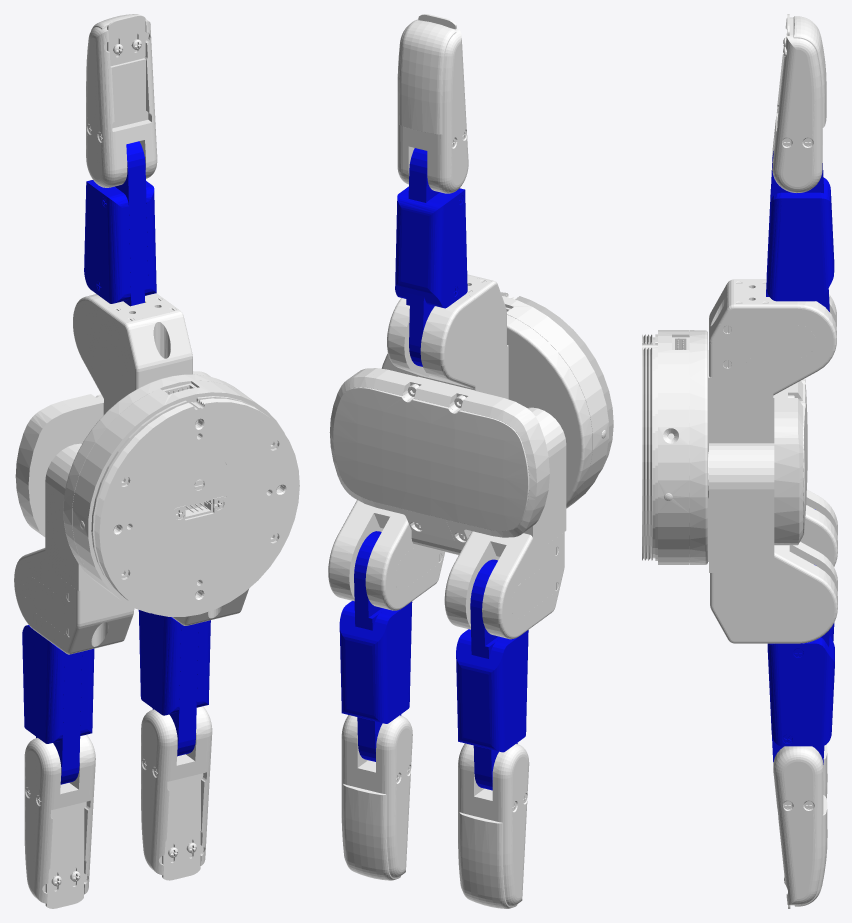
File: BarreHand_v4c.fbx
The picture shows the model from 3 angles, left to right: view 1: azimuth 30°, elevation 25°; view 2: azimuth 150°, elevation 25°; view 3: azimuth 270°, elevation 25°; orthographic projection.
Parts seen in each view (by area): view 1: Base, Rng_Prox, Tmb_Dist, Rng_Dist, Idx_Dist, Tmb_Mid, Rng_Mid, Idx_Mid, Idx_Prox; view 2: Base, Rng_Prox, Tmb_Dist, Idx_Dist, Rng_Dist, Rng_Mid, Idx_Mid, Tmb_Mid, Idx_Prox; view 3: Base, Idx_Prox, Tmb_Dist, Tmb_Mid, Idx_Dist, Idx_Mid, Rng_Prox.
Part boxes in pixels (x1,y1,x2,y2): Base: (15, 293, 299, 616); Rng_Prox: (14, 443, 134, 654); Tmb_Dist: (86, 14, 157, 187); Rng_Dist: (24, 734, 95, 908); Idx_Dist: (141, 706, 212, 880); Tmb_Mid: (84, 141, 156, 306); Rng_Mid: (22, 625, 94, 784); Idx_Mid: (138, 610, 210, 756); Idx_Prox: (172, 589, 248, 625); Base: (329, 274, 613, 554); Rng_Prox: (444, 407, 566, 639); Tmb_Dist: (397, 14, 468, 193); Idx_Dist: (341, 715, 412, 880); Rng_Dist: (458, 743, 529, 908); Rng_Mid: (456, 559, 528, 790); Idx_Mid: (339, 531, 412, 761); Tmb_Mid: (395, 148, 467, 366); Idx_Prox: (328, 500, 444, 610); Base: (642, 279, 836, 564); Idx_Prox: (708, 443, 837, 643); Tmb_Dist: (772, 14, 826, 192); Tmb_Mid: (766, 151, 834, 311); Idx_Dist: (773, 746, 827, 908); Idx_Mid: (767, 565, 834, 764); Rng_Prox: (800, 489, 837, 566).
Size of the model in its own units: 90.01 by 358 by 74.24.
